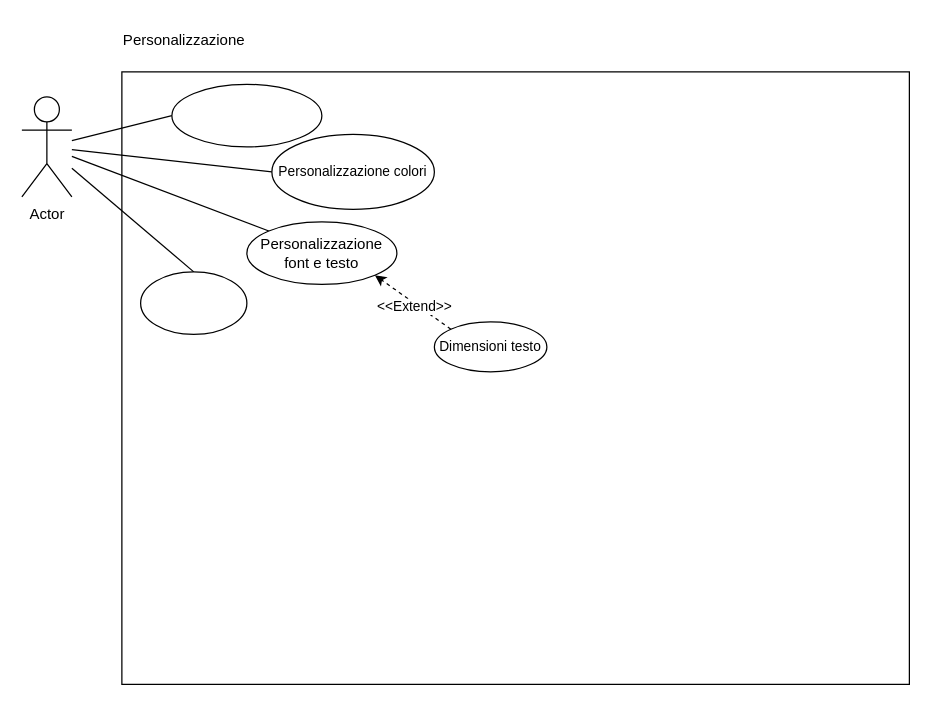
The diagram is 931 pixels wide and 706 high, and some of its shapes have lost their labels. The shapes that lost their labels are listed below. From the top down, each one's centre as x and y in pixels, then its label:
At pixel 246 115: "Personalizzazione suono notifiche".
At pixel 193 302: "Drag-&-drop".
